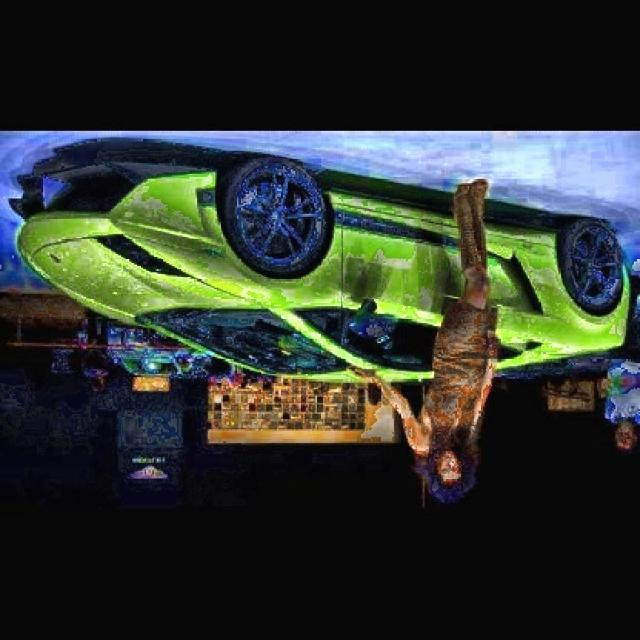green: (23, 154, 632, 381)
